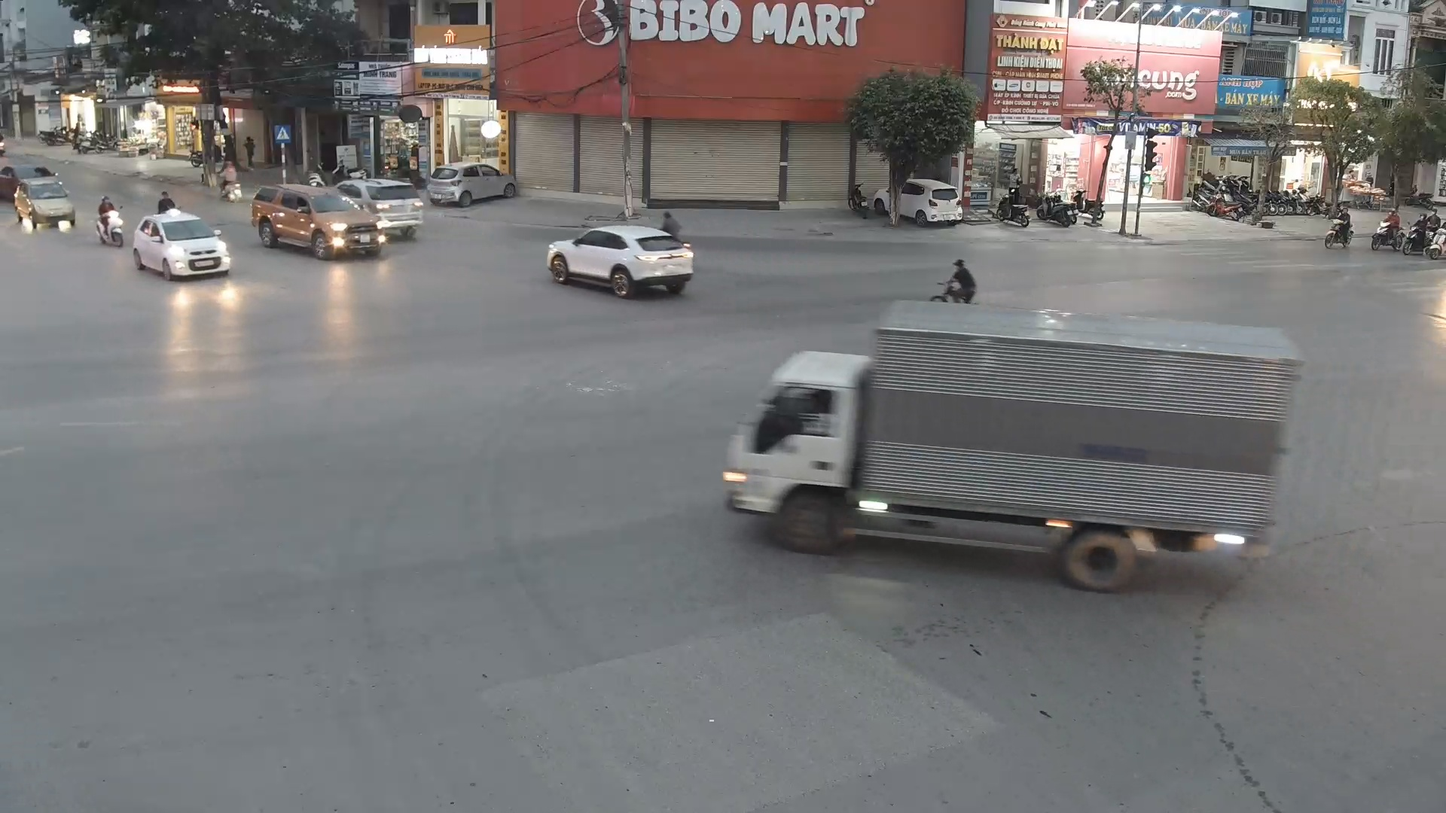car: (722, 311, 1298, 593), (546, 218, 696, 299), (253, 180, 386, 261), (131, 210, 233, 282), (348, 176, 425, 240), (426, 161, 519, 210), (15, 175, 77, 232)
motorbike: (95, 193, 125, 248)
